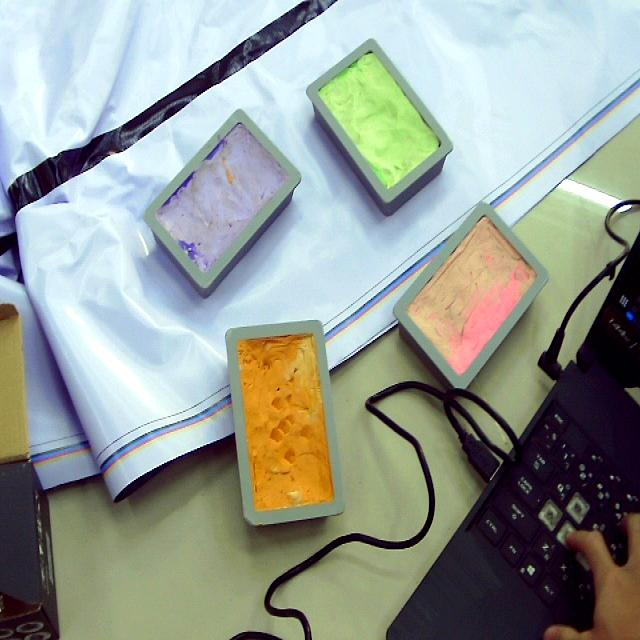block: (390, 202, 552, 393), (143, 109, 300, 298), (304, 37, 452, 215), (224, 320, 346, 528)
